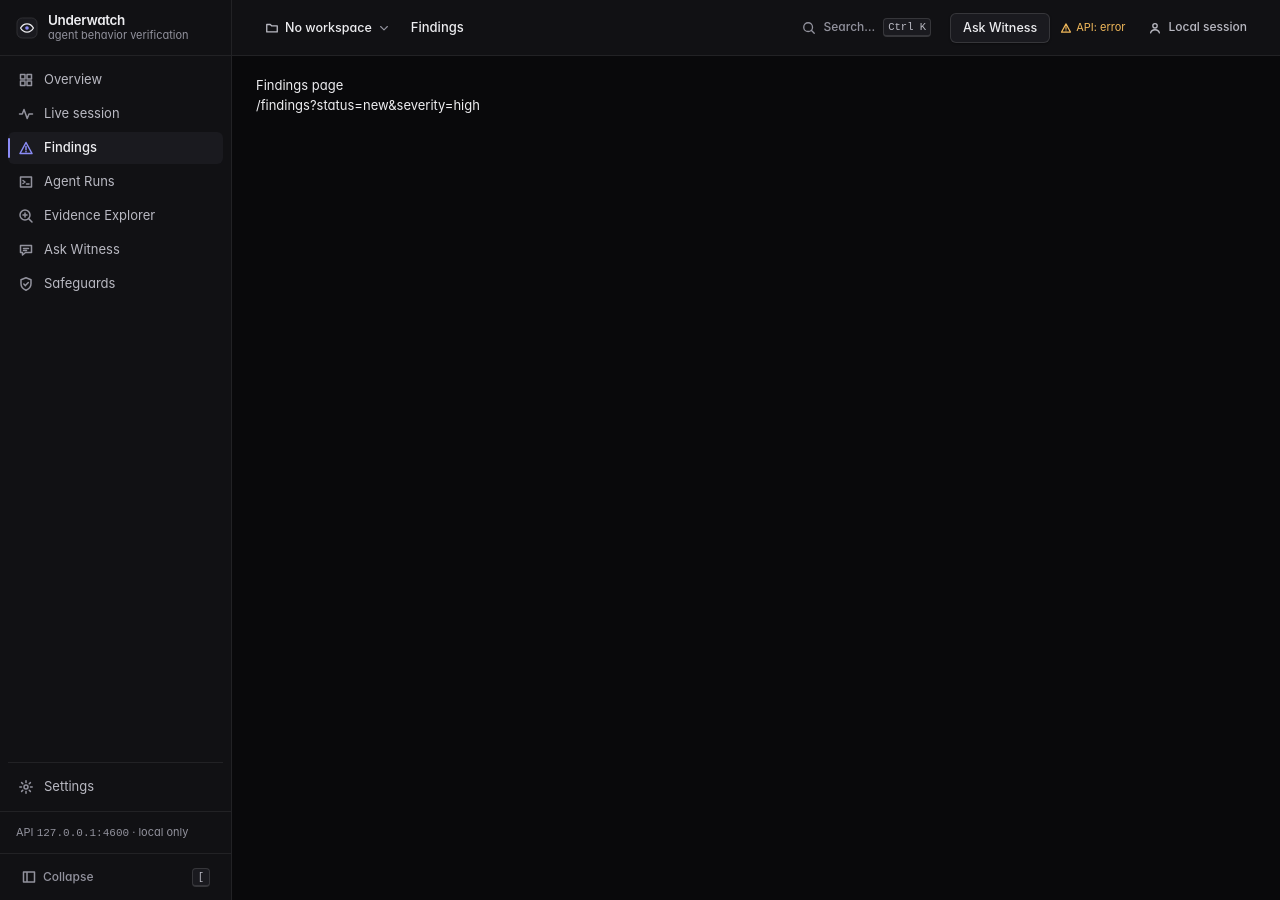
app shell navigation › restores a section's URL filters when returning to it through the sidebar
This screenshot has width=1280, height=900.
Click the link "Agent Runs".
click(66, 182)  # box [18,173,115,190]
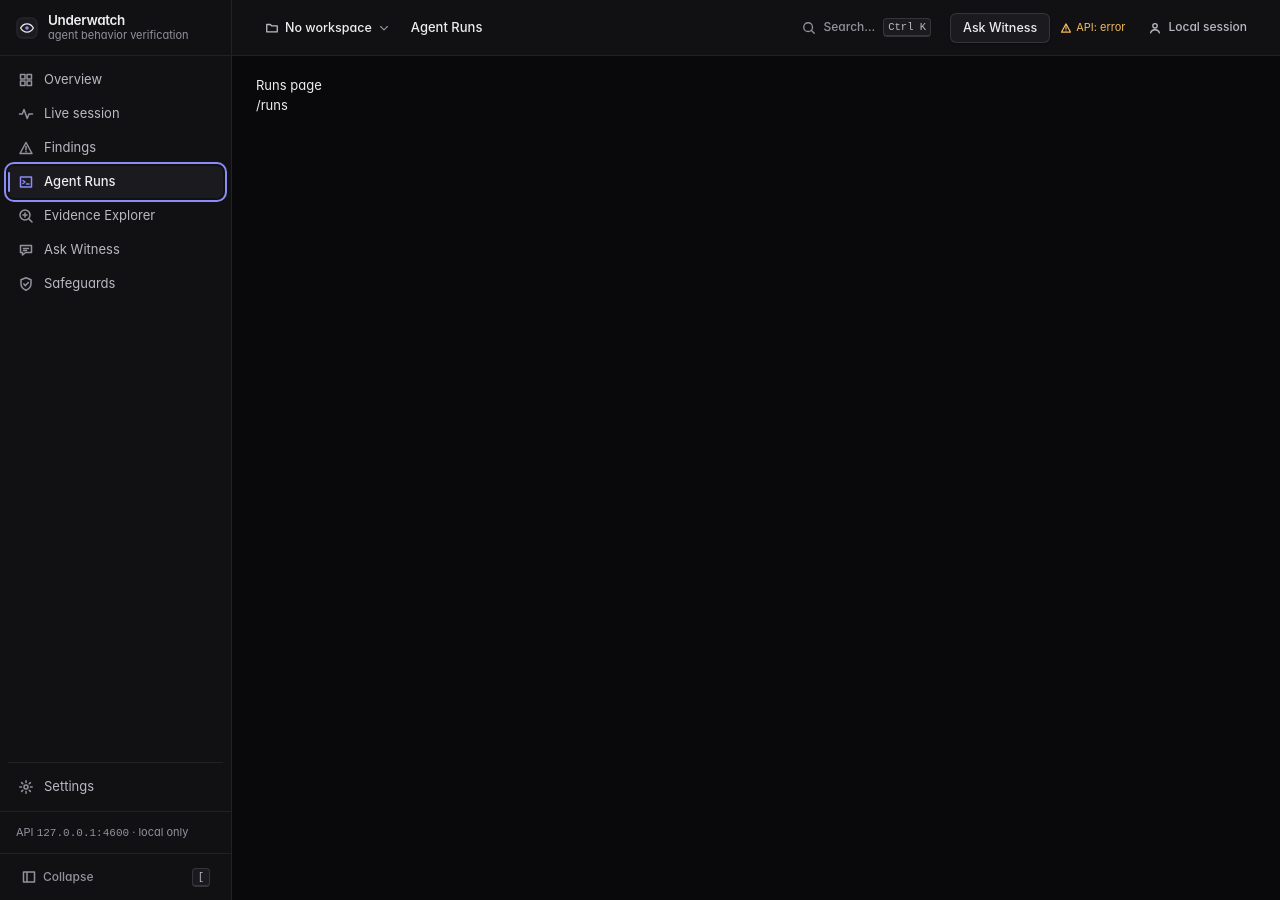
Expected: the text with test id "location" reads "/runs", [256,96,288,112]
Click the link "Findings".
click(57, 148)  # box [18,139,96,156]
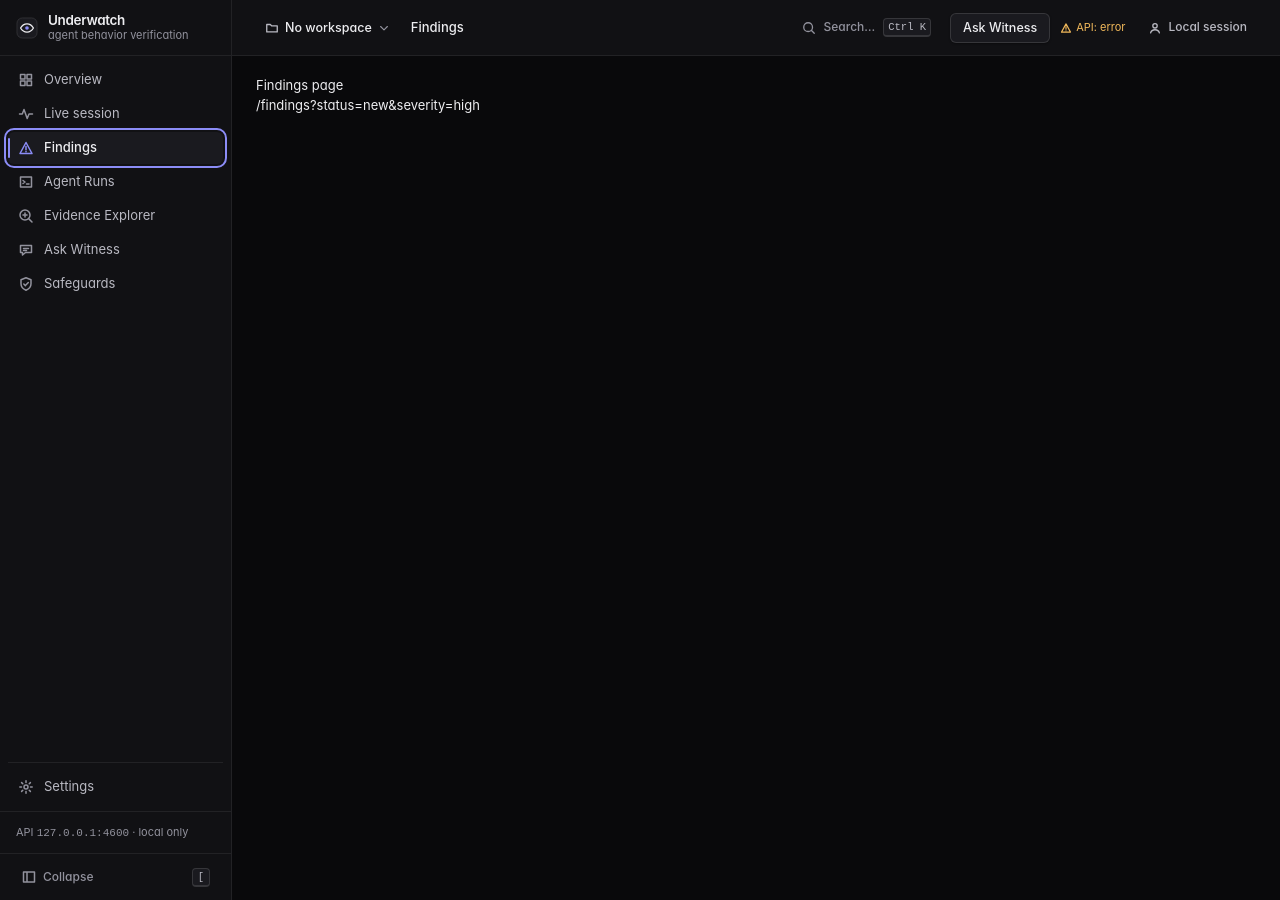
Expected: the text with test id "location" reads "/findings?status=new&severity=high", [256,96,480,112]
